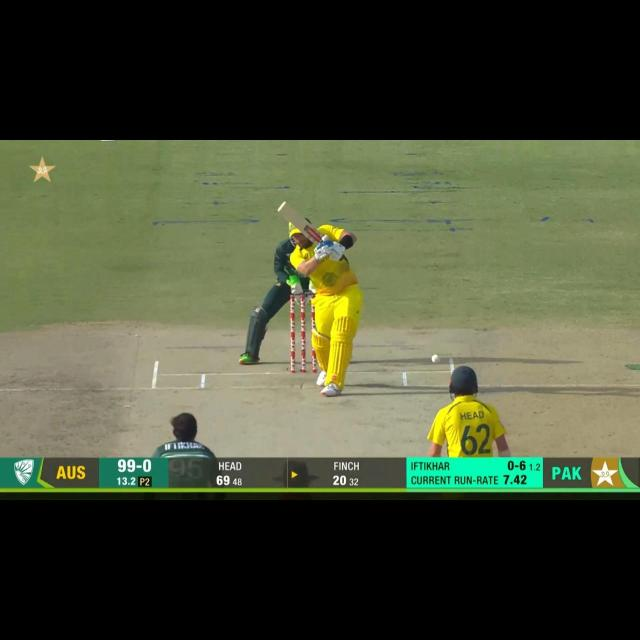bat: (274, 203, 322, 243)
toe: (276, 199, 292, 214)
